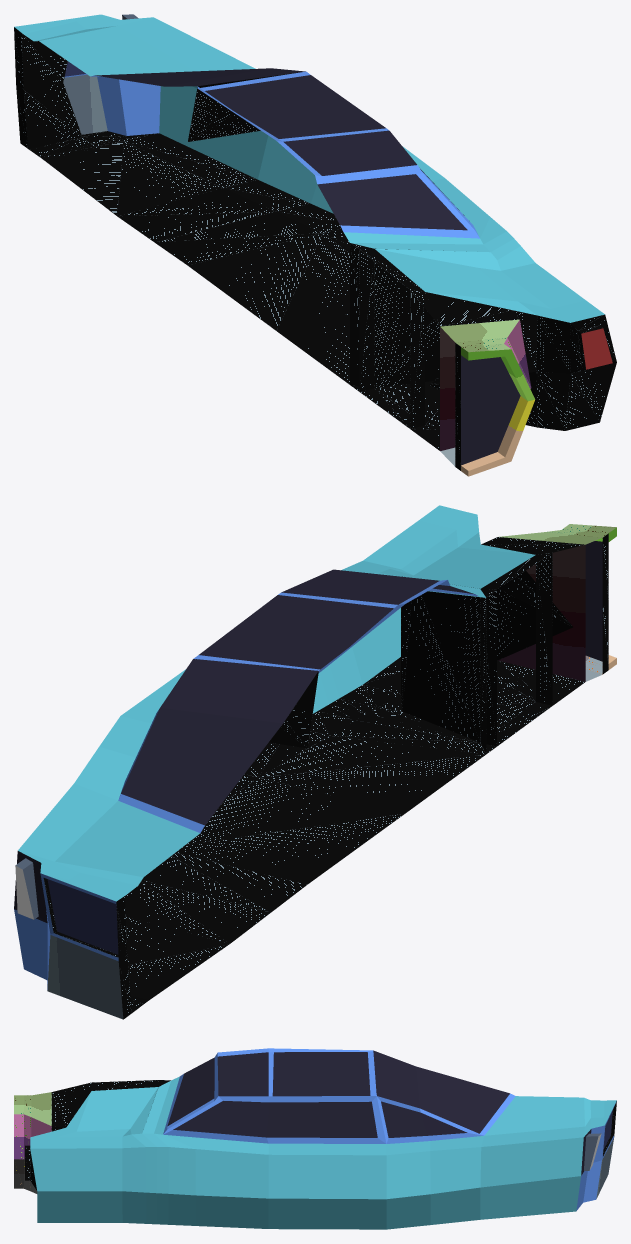
The model's file is cuba_cars.glb.
The picture shows the model from 3 angles, top to bottom: view 1: azimuth 30°, elevation 25°; view 2: azimuth 150°, elevation 25°; view 3: azimuth 270°, elevation 25°; orthographic projection. The views are drawn at different scales.
Visible parts, largest first — view 1: Cube; view 2: Cube; view 3: Cube.
Part boxes in pixels (<box>): Cube: <box>14,14,616,476</box>; Cube: <box>14,505,616,1019</box>; Cube: <box>14,1048,616,1229</box>.
Bounding box in the file's own units: 1.21 × 1.18 × 4.97.
Materials: 1 (1 with a texture image).
